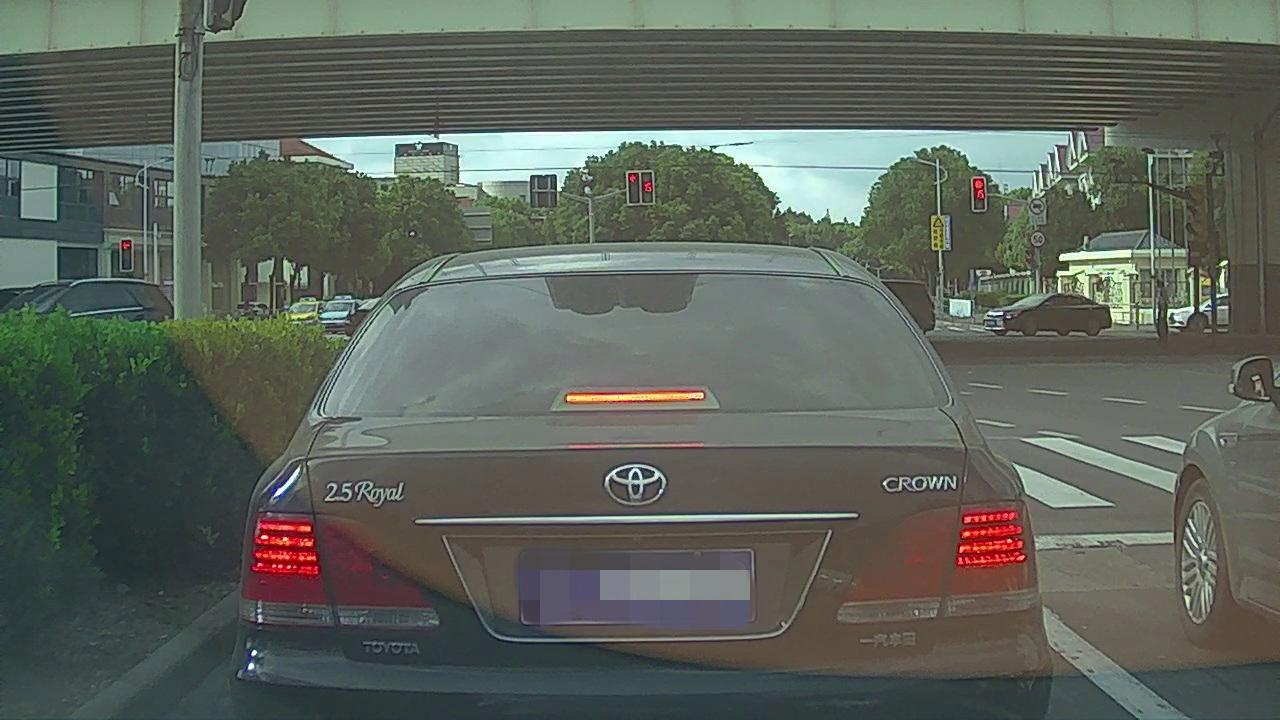traffic_light: (641, 170, 654, 206), (627, 171, 641, 202), (973, 176, 985, 211), (121, 238, 133, 272)
